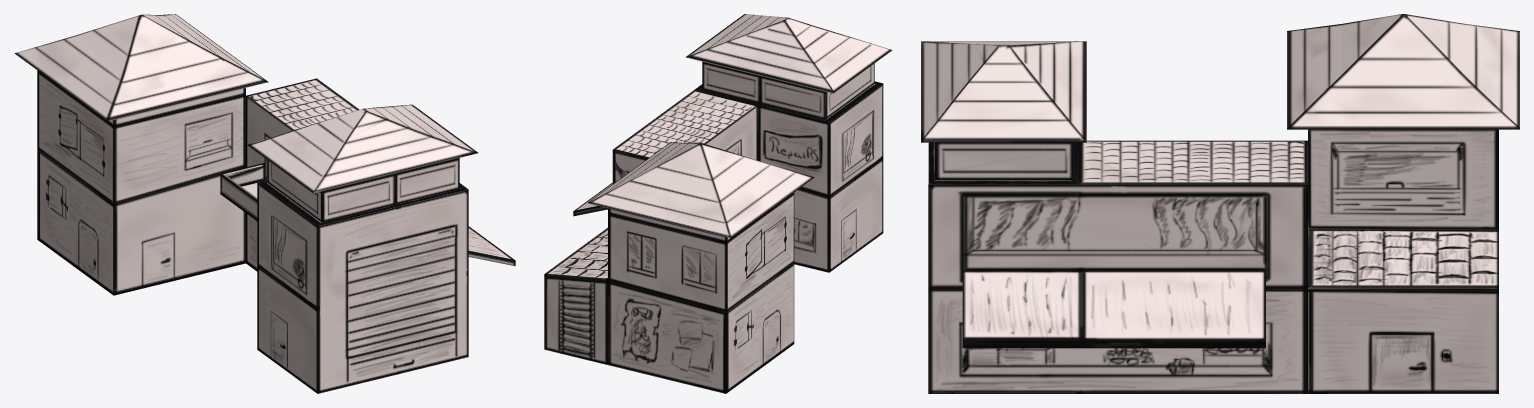
The model's file is maison 4 coté.fbx.
3 renders of one model, left to right at view 1: azimuth 30°, elevation 25°; view 2: azimuth 150°, elevation 25°; view 3: azimuth 270°, elevation 25°, orthographic. The views are drawn at different scales.
Visible parts, largest first — view 1: maison 4 coté 1; view 2: maison 4 coté 1; view 3: maison 4 coté 1.
Boxes of the visible parts, x1,y1,x2,y2 form: maison 4 coté 1: (15, 14, 515, 393); maison 4 coté 1: (544, 14, 892, 393); maison 4 coté 1: (921, 14, 1519, 393).
Size of the model in its own units: 863 by 719 by 1285.
